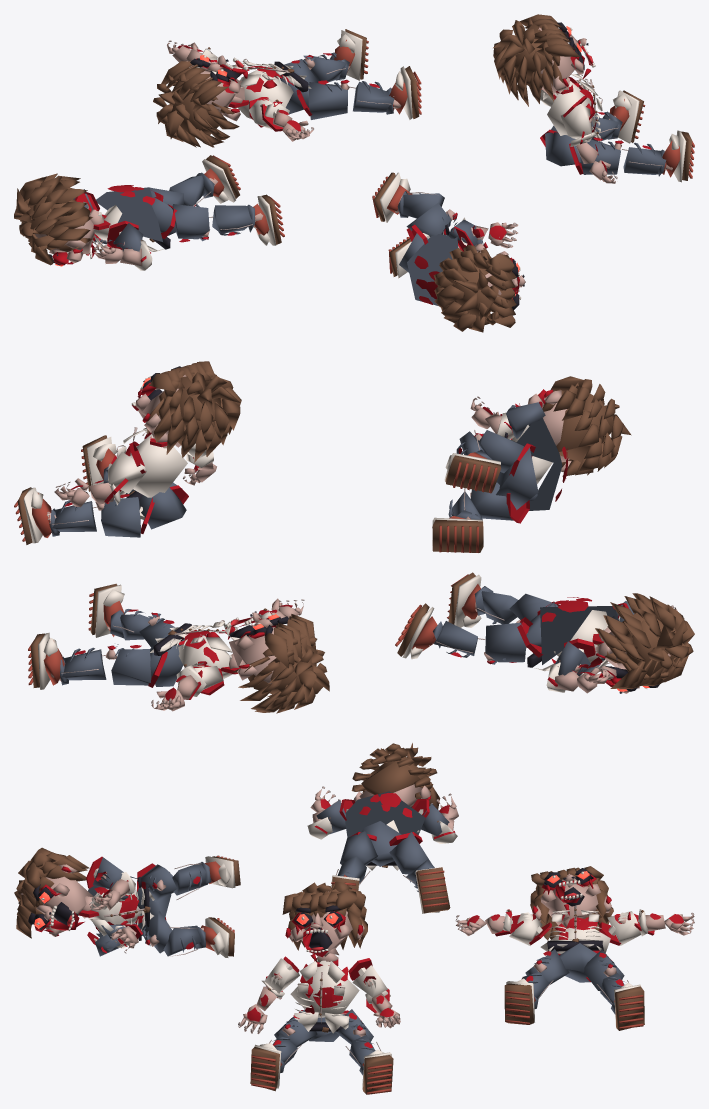
3 views of the same model, one above another, from view 1: azimuth 30°, elevation 25°; view 2: azimuth 150°, elevation 25°; view 3: azimuth 270°, elevation 25° (orthographic). The views are drawn at different scales.
Visible parts, largest first — view 1: onBack__head, curled__head, sitting__head, head, torso, curled__torso, onBack__torso, sitting__torso, onBack__legR, sitting__footR, onBack__footR, onBack__footL (+23 smaller); view 2: onBack__head, sitting__head, head, curled__head, torso, curled__torso, sitting__torso, onBack__torso, curled__footR, curled__footL, sitting__footL, onBack__footL (+26 smaller); view 3: curled__head, sitting__head, onBack__head, head, sitting__torso, torso, curled__torso, onBack__torso, onBack__hip, onBack__footR, onBack__footL, sitting__footR (+22 smaller).
Part boxes in pixels (bbox=[...]): onBack__head: bbox=[153, 55, 249, 147]; curled__head: bbox=[433, 242, 525, 332]; sitting__head: bbox=[493, 14, 595, 106]; head: bbox=[14, 173, 104, 266]; torso: bbox=[92, 185, 164, 251]; curled__torso: bbox=[407, 224, 483, 305]; onBack__torso: bbox=[232, 59, 311, 119]; sitting__torso: bbox=[547, 73, 602, 142]; onBack__legR: bbox=[308, 78, 349, 119]; sitting__footR: bbox=[662, 130, 694, 182]; onBack__footR: bbox=[389, 66, 421, 119]; onBack__footL: bbox=[334, 29, 368, 80]; onBack__head: bbox=[225, 611, 329, 713]; sitting__head: bbox=[131, 361, 241, 462]; head: bbox=[595, 593, 694, 693]; curled__head: bbox=[510, 376, 631, 476]; torso: bbox=[533, 597, 618, 676]; curled__torso: bbox=[504, 418, 568, 510]; sitting__torso: bbox=[116, 427, 187, 497]; onBack__torso: bbox=[150, 620, 239, 678]; curled__footR: bbox=[432, 516, 483, 552]; curled__footL: bbox=[444, 452, 501, 493]; sitting__footL: bbox=[14, 487, 56, 544]; onBack__footL: bbox=[28, 632, 64, 689]; curled__head: bbox=[14, 847, 93, 938]; sitting__head: bbox=[282, 881, 367, 962]; onBack__head: bbox=[530, 866, 613, 940]; head: bbox=[351, 743, 440, 809]; sitting__torso: bbox=[290, 959, 359, 1033]; torso: bbox=[345, 791, 425, 870]; curled__torso: bbox=[88, 876, 154, 940]; onBack__torso: bbox=[540, 905, 610, 953]; onBack__hip: bbox=[547, 938, 603, 982]; onBack__footR: bbox=[504, 978, 535, 1024]; onBack__footL: bbox=[614, 982, 644, 1030]; sitting__footR: bbox=[250, 1043, 282, 1091].
Bounding box in the file's own units: 5.41 × 1.37 × 5.47.
